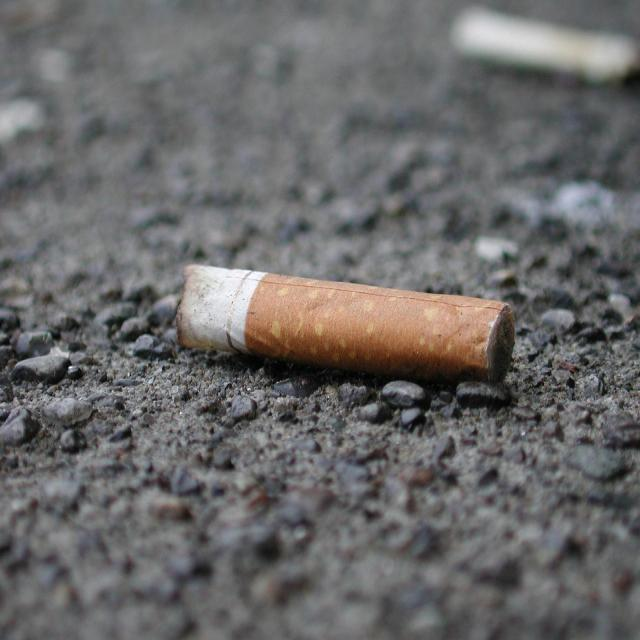cigarette: (174, 265, 516, 403)
